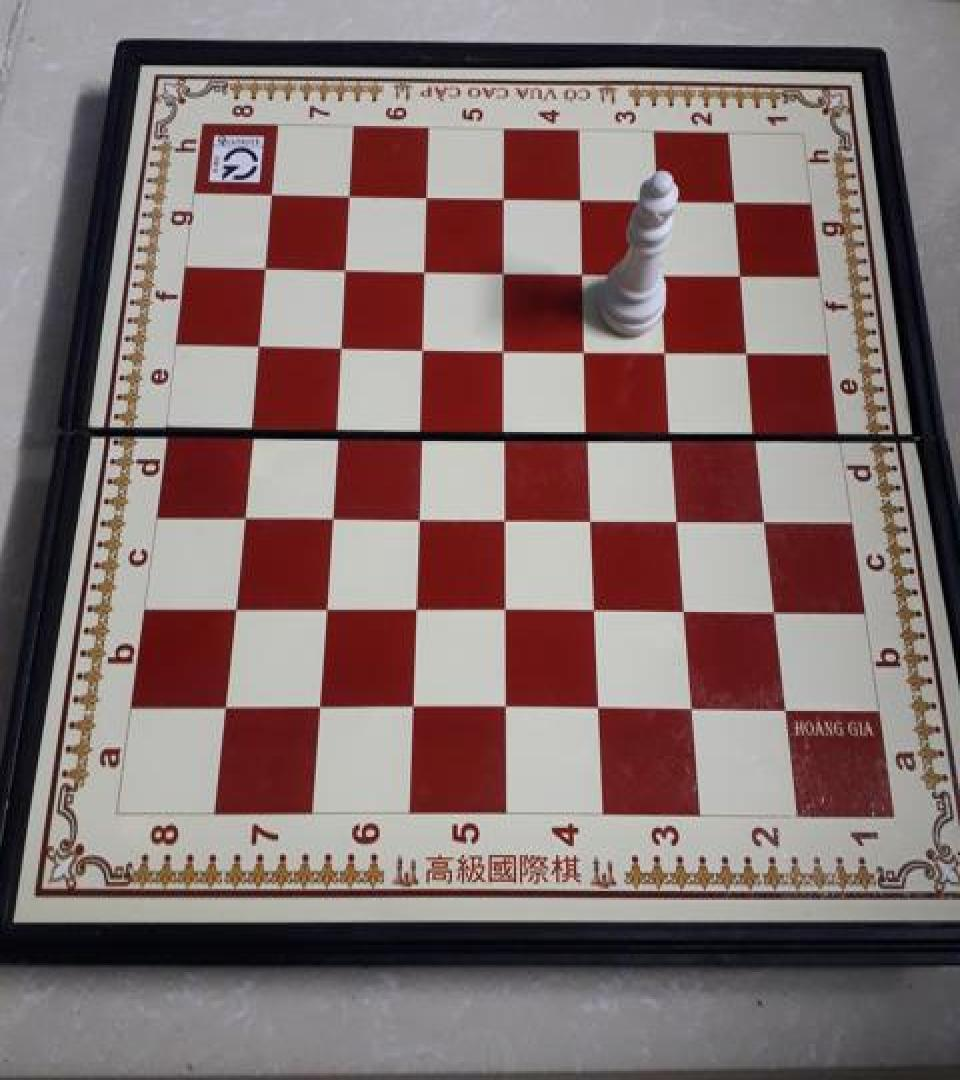xcorner: (584, 688, 616, 725), (677, 689, 709, 726), (399, 588, 431, 625), (209, 685, 241, 721), (303, 686, 335, 722), (397, 686, 429, 722), (490, 688, 522, 724), (769, 691, 801, 727), (218, 586, 250, 622), (308, 587, 340, 623), (490, 590, 522, 626), (580, 590, 612, 626), (670, 590, 702, 626), (760, 592, 792, 628), (226, 494, 258, 530), (314, 495, 346, 531), (401, 496, 433, 532), (489, 497, 521, 533), (576, 498, 608, 534), (664, 500, 696, 536), (750, 500, 782, 536), (233, 407, 265, 443), (318, 408, 350, 444), (404, 410, 436, 446), (488, 410, 520, 446), (573, 412, 605, 448), (658, 413, 690, 449), (742, 414, 774, 450), (240, 325, 272, 361), (323, 326, 355, 362), (406, 328, 438, 364), (488, 330, 520, 366), (570, 331, 602, 367), (652, 332, 684, 368), (734, 333, 766, 369), (247, 248, 279, 284), (327, 250, 359, 286), (407, 251, 439, 287), (487, 252, 519, 288), (567, 253, 599, 289), (647, 256, 679, 292), (726, 256, 758, 292), (253, 176, 285, 212), (331, 178, 363, 214), (409, 179, 441, 215), (487, 180, 519, 216), (564, 181, 596, 217), (642, 182, 674, 218), (719, 184, 751, 220)
